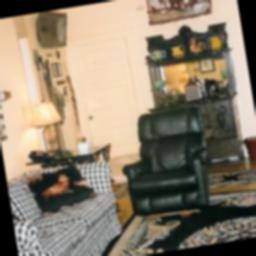Bote de Basura: (240, 131, 256, 164)
Puerta: (69, 41, 142, 157)
